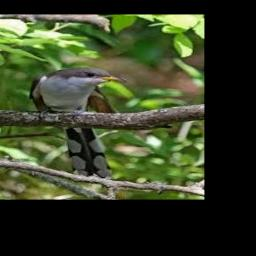Cuckoo: (31, 66, 127, 177)
